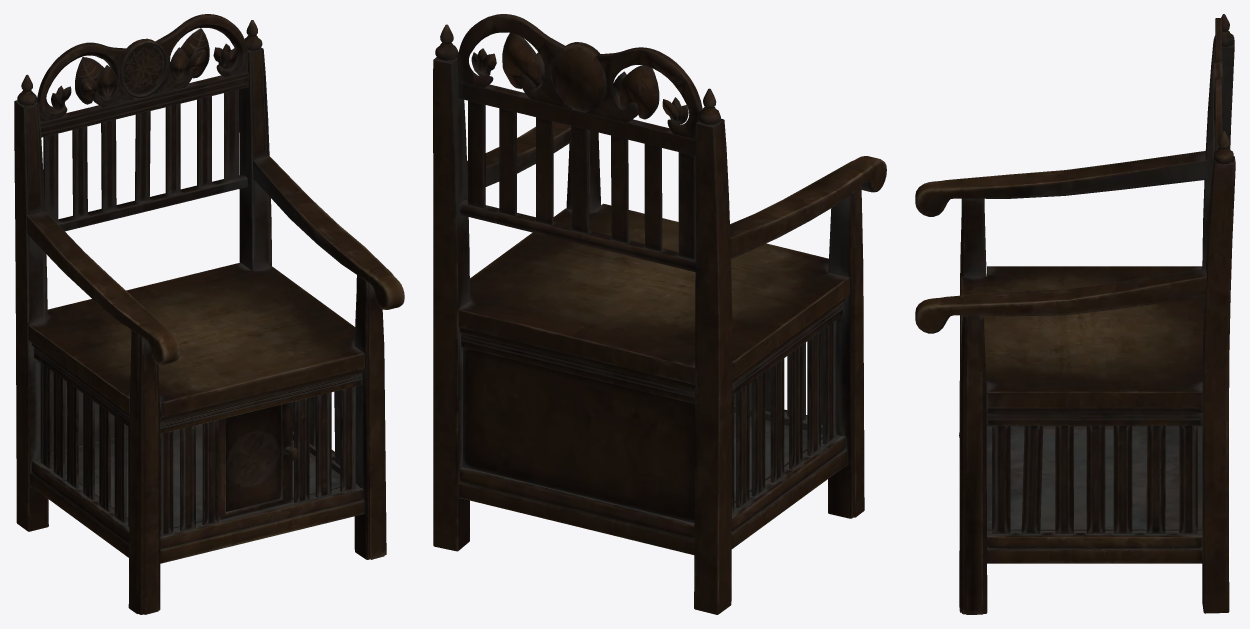
Rendered from gallinera_chair.glb.
3 views of the same model, side by side, from view 1: azimuth 30°, elevation 25°; view 2: azimuth 150°, elevation 25°; view 3: azimuth 270°, elevation 25° (orthographic). The views are drawn at different scales.
Parts seen in each view (by area): view 1: gallinera_chair; view 2: gallinera_chair; view 3: gallinera_chair.
Boxes of the visible parts, <box> form: gallinera_chair: <box>14,14,404,614</box>; gallinera_chair: <box>433,14,886,614</box>; gallinera_chair: <box>915,14,1235,614</box>.
Bounding box in the file's own units: 0.5804 × 1.03 × 0.6039.
Materials: 1 (1 with a texture image).
